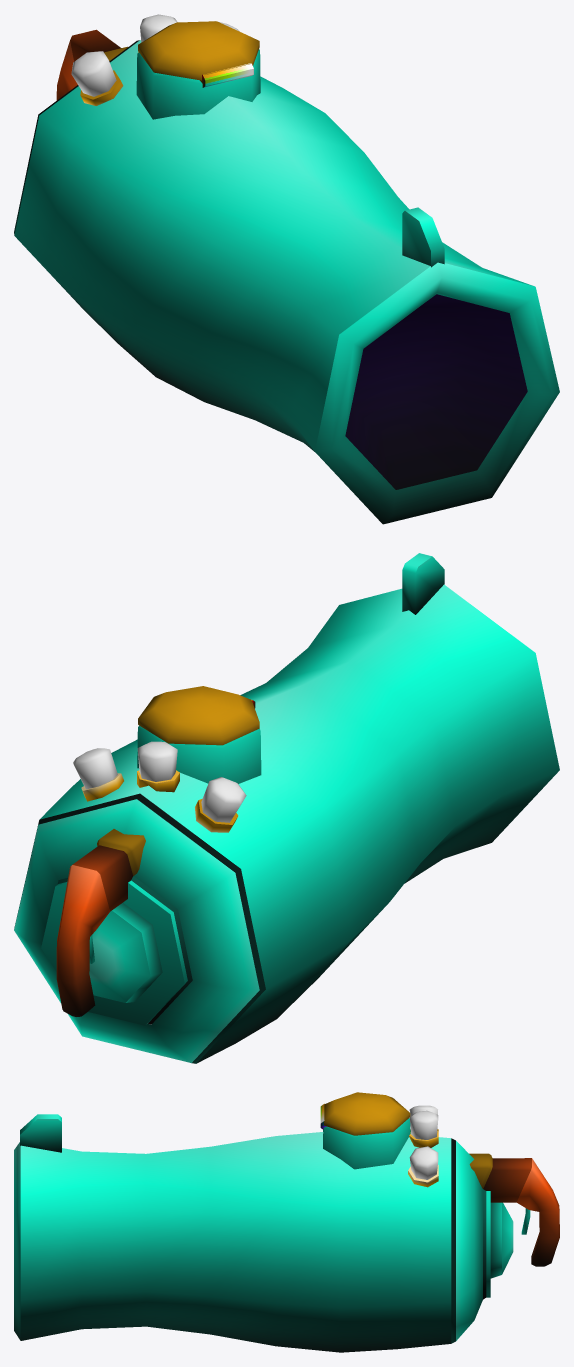
The model's file is Cannon.fbx.
3 views of the same model, one above another, from view 1: azimuth 30°, elevation 25°; view 2: azimuth 150°, elevation 25°; view 3: azimuth 270°, elevation 25° (orthographic). The views are drawn at different scales.
Visible parts, largest first — view 1: Cannon, Lid, Lamp03; view 2: Cannon, Lid, LampHolders, Lamp03, Lamp02, Lamp01; view 3: Cannon, Lid, Lamp01, Lamp02, LampHolders.
Part boxes in pixels (<box>): Cannon: <box>14,29,559,524</box>; Lid: <box>138,21,259,87</box>; Lamp03: <box>71,51,116,96</box>; Cannon: <box>14,553,559,1063</box>; Lid: <box>138,686,259,745</box>; LampHolders: <box>81,770,238,832</box>; Lamp03: <box>201,777,246,822</box>; Lamp02: <box>137,741,177,781</box>; Lamp01: <box>73,748,117,789</box>; Cannon: <box>14,1114,559,1352</box>; Lid: <box>320,1092,410,1135</box>; Lamp01: <box>409,1146,438,1179</box>; Lamp02: <box>409,1110,438,1139</box>; LampHolders: <box>408,1129,438,1187</box>.
Bounding box in the file's own units: 48.85 × 53.85 × 117.
